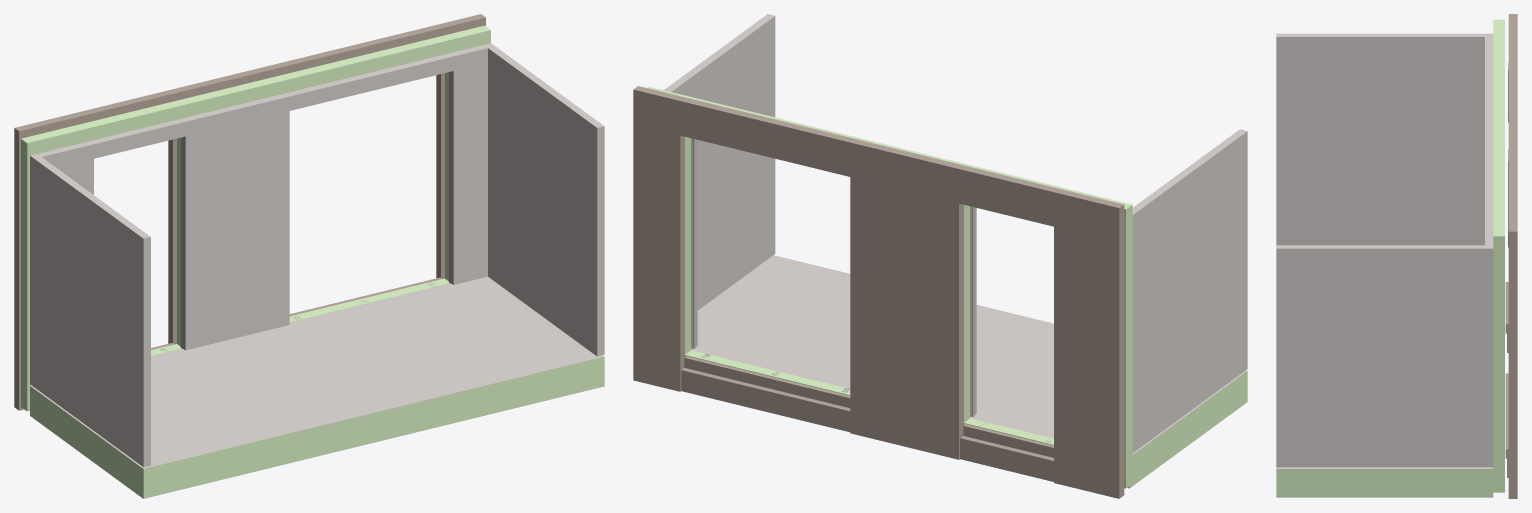
3 renders of one model, left to right at view 1: azimuth 30°, elevation 25°; view 2: azimuth 150°, elevation 25°; view 3: azimuth 270°, elevation 25°, orthographic. The views are drawn at different scales.
Parts seen in each view (by area): view 1: [8705202]23_Geïsoleerde ribcassettevloer_Rc=4,0m²K/W, [8705160]21_prefab betonwand 90mm, [8705197]21_prefab betonwand 90mm, [8705199]21_prefab betonwand 90mm, [8705162]21_isolatie 131mm, [8705167]21_Metselwerk Sonsbeek 100mm, Aberson 48N13; view 2: [8705167]21_Metselwerk Sonsbeek 100mm, Aberson 48N13, [8705197]21_prefab betonwand 90mm, [8705202]23_Geïsoleerde ribcassettevloer_Rc=4,0m²K/W, [8705199]21_prefab betonwand 90mm, [8705162]21_isolatie 131mm, [8705191]21_Metselwerk Sonsbeek 100mm, Aberson 48N13, [8705192]21_Metselwerk Sonsbeek 100mm, Aberson 48N13, [8705220]21_Metselwerk Sonsbeek 100mm, Aberson 48N13, [8705190]21_Metselwerk Sonsbeek 100mm, Aberson 48N13, [8705160]21_prefab betonwand 90mm, [8705215]21_Metselwerk Sonsbeek 100mm, Aberson 48N13, [8705221]21_Metselwerk Sonsbeek 50mm, Aberson 48N13 Klamp ge (+1 smaller); view 3: [8705199]21_prefab betonwand 90mm, [8705197]21_prefab betonwand 90mm, [8705202]23_Geïsoleerde ribcassettevloer_Rc=4,0m²K/W, [8705162]21_isolatie 131mm, [8705167]21_Metselwerk Sonsbeek 100mm, Aberson 48N13, [8705160]21_prefab betonwand 90mm, [8705190]21_Metselwerk Sonsbeek 100mm, Aberson 48N13, [8705221]21_Metselwerk Sonsbeek 50mm, Aberson 48N13 Klamp ge.
Boxes of the visible parts, <box> form: [8705202]23_Geïsoleerde ribcassettevloer_Rc=4,0m²K/W: <box>30,276,604,498</box>; [8705160]21_prefab betonwand 90mm: <box>38,45,487,350</box>; [8705197]21_prefab betonwand 90mm: <box>30,154,150,467</box>; [8705199]21_prefab betonwand 90mm: <box>484,43,604,356</box>; [8705162]21_isolatie 131mm: <box>21,25,490,411</box>; [8705167]21_Metselwerk Sonsbeek 100mm, Aberson 48N13: <box>14,14,485,350</box>; [8705167]21_Metselwerk Sonsbeek 100mm, Aberson 48N13: <box>633,86,1124,436</box>; [8705197]21_prefab betonwand 90mm: <box>1132,129,1247,452</box>; [8705202]23_Geïsoleerde ribcassettevloer_Rc=4,0m²K/W: <box>691,255,1247,488</box>; [8705199]21_prefab betonwand 90mm: <box>664,14,775,310</box>; [8705162]21_isolatie 131mm: <box>648,87,1132,488</box>; [8705191]21_Metselwerk Sonsbeek 100mm, Aberson 48N13: <box>850,371,963,459</box>; [8705192]21_Metselwerk Sonsbeek 100mm, Aberson 48N13: <box>1054,420,1124,498</box>; [8705220]21_Metselwerk Sonsbeek 100mm, Aberson 48N13: <box>681,368,850,432</box>; [8705190]21_Metselwerk Sonsbeek 100mm, Aberson 48N13: <box>633,318,684,391</box>; [8705160]21_prefab betonwand 90mm: <box>691,138,976,416</box>; [8705215]21_Metselwerk Sonsbeek 100mm, Aberson 48N13: <box>960,436,1053,481</box>; [8705221]21_Metselwerk Sonsbeek 50mm, Aberson 48N13 Klamp ge: <box>684,356,850,407</box>; [8705199]21_prefab betonwand 90mm: <box>1276,245,1493,467</box>; [8705197]21_prefab betonwand 90mm: <box>1276,33,1493,245</box>; [8705202]23_Geïsoleerde ribcassettevloer_Rc=4,0m²K/W: <box>1276,467,1493,497</box>; [8705162]21_isolatie 131mm: <box>1493,19,1504,492</box>; [8705167]21_Metselwerk Sonsbeek 100mm, Aberson 48N13: <box>1508,14,1517,441</box>; [8705160]21_prefab betonwand 90mm: <box>1485,37,1493,245</box>; [8705190]21_Metselwerk Sonsbeek 100mm, Aberson 48N13: <box>1508,441,1517,498</box>; [8705221]21_Metselwerk Sonsbeek 50mm, Aberson 48N13 Klamp ge: <box>1505,373,1508,458</box>.
Size of the model in its own units: 5.7 by 3.26 by 2.67.
